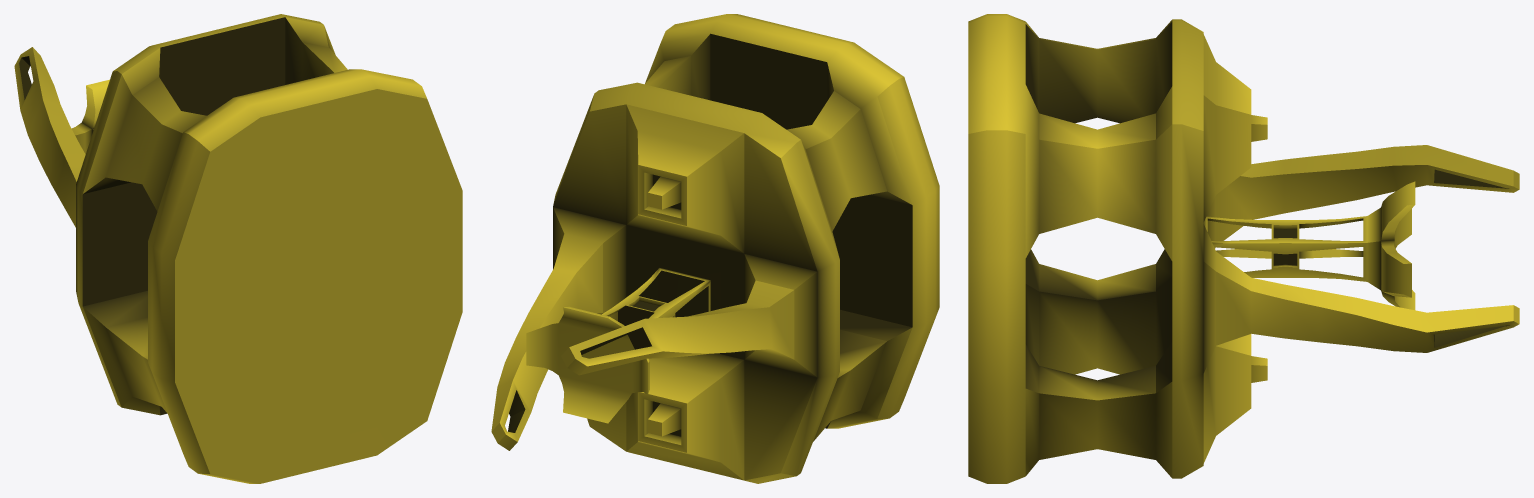
File: Statue1.fbx
3 renders of one model, left to right at view 1: azimuth 30°, elevation 25°; view 2: azimuth 150°, elevation 25°; view 3: azimuth 270°, elevation 25°, orthographic. The views are drawn at different scales.
Parts seen in each view (by area): view 1: Statue1; view 2: Statue1; view 3: Statue1.
Boxes of the visible parts, bbox=[...] form: Statue1: bbox=[14, 14, 462, 483]; Statue1: bbox=[491, 14, 939, 483]; Statue1: bbox=[968, 14, 1519, 483].
Bounding box in the file's own units: 84.76 × 103 × 128.
